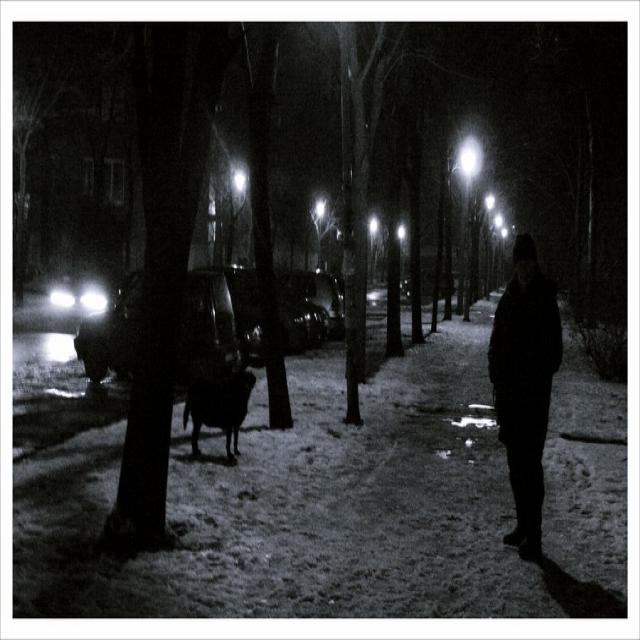People: (493, 173, 579, 568)
dog: (121, 350, 265, 478)
